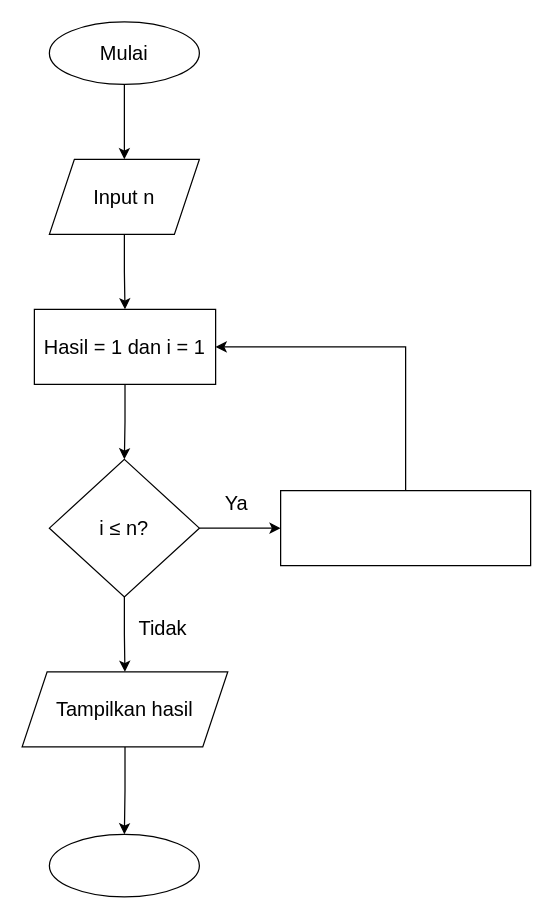
Some shapes in this 553 by 919 pixel diagram are drawn without their labels. The shapes that lost their labels are listed below. From the top down, each one's centre as x and y in pixels, then its label:
[405,527]: hasil = hasil * i → i = i + 1
[123,865]: Selesai
